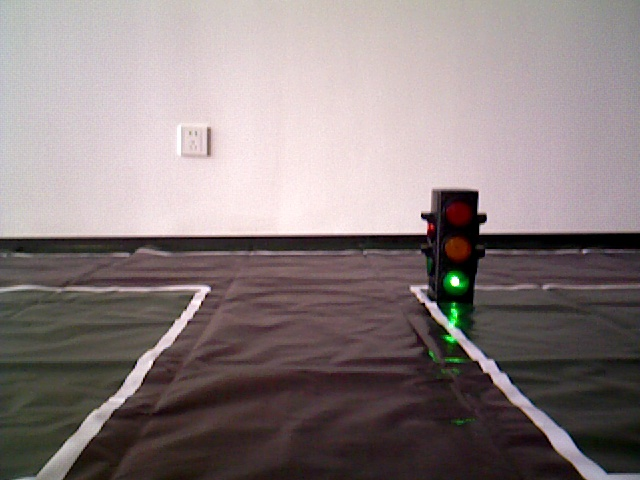green: (431, 194, 477, 295)
